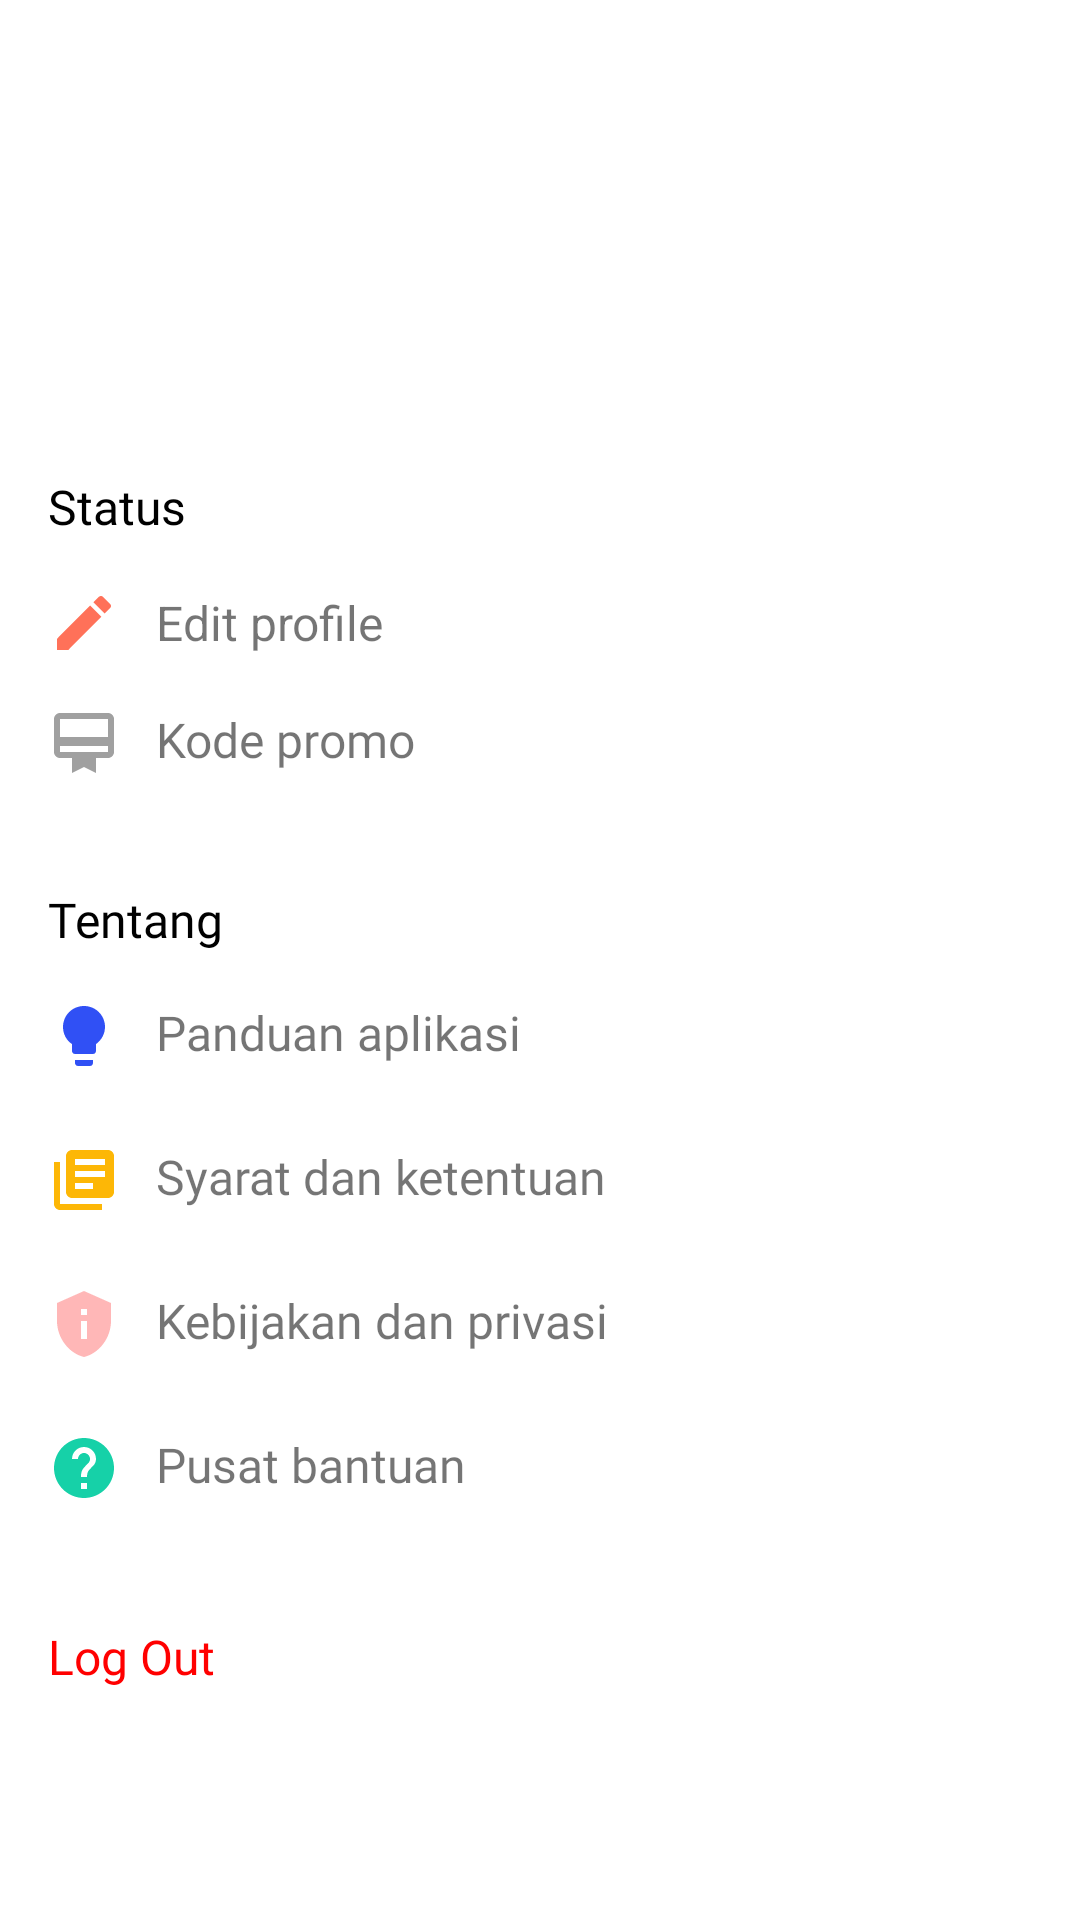

Point at icon controls on the screen. Image size 1080x1920, points as point (x, y).
card membership: point (84, 743)
help: point (84, 1468)
library books: point (84, 1180)
lightbulb: point (84, 1036)
privacy tip: point (84, 1324)
